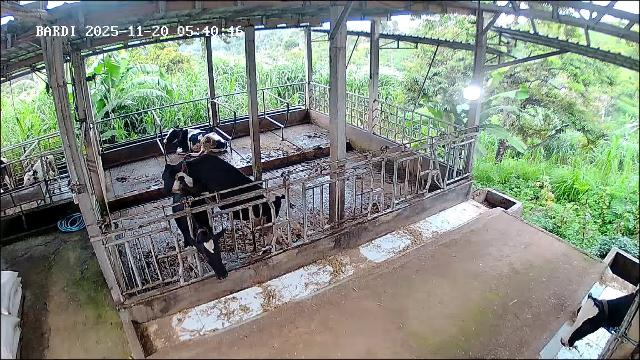mounting: (161, 157, 287, 255)
